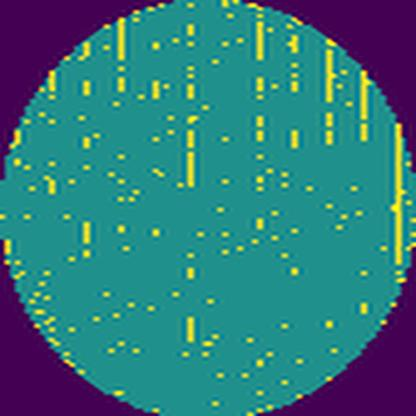Scratch: (389, 121, 407, 274), (251, 13, 270, 150), (322, 43, 340, 151), (354, 67, 377, 144), (113, 14, 132, 96), (183, 124, 201, 192)
